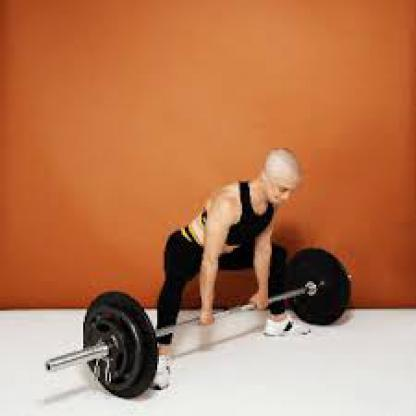barbell: (45, 248, 353, 400)
